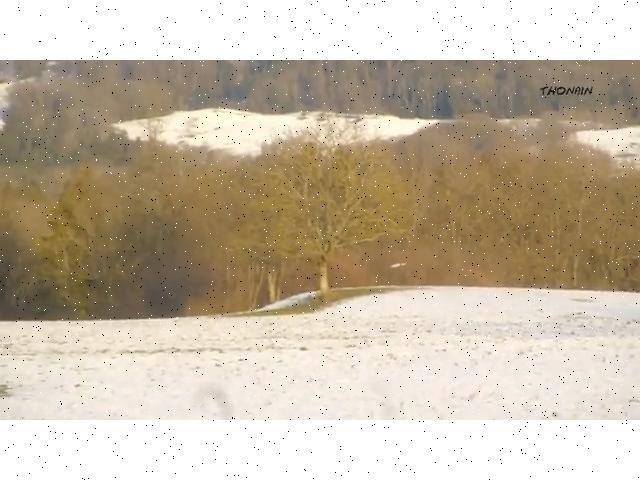Anti-Drone: (383, 254, 409, 272)
